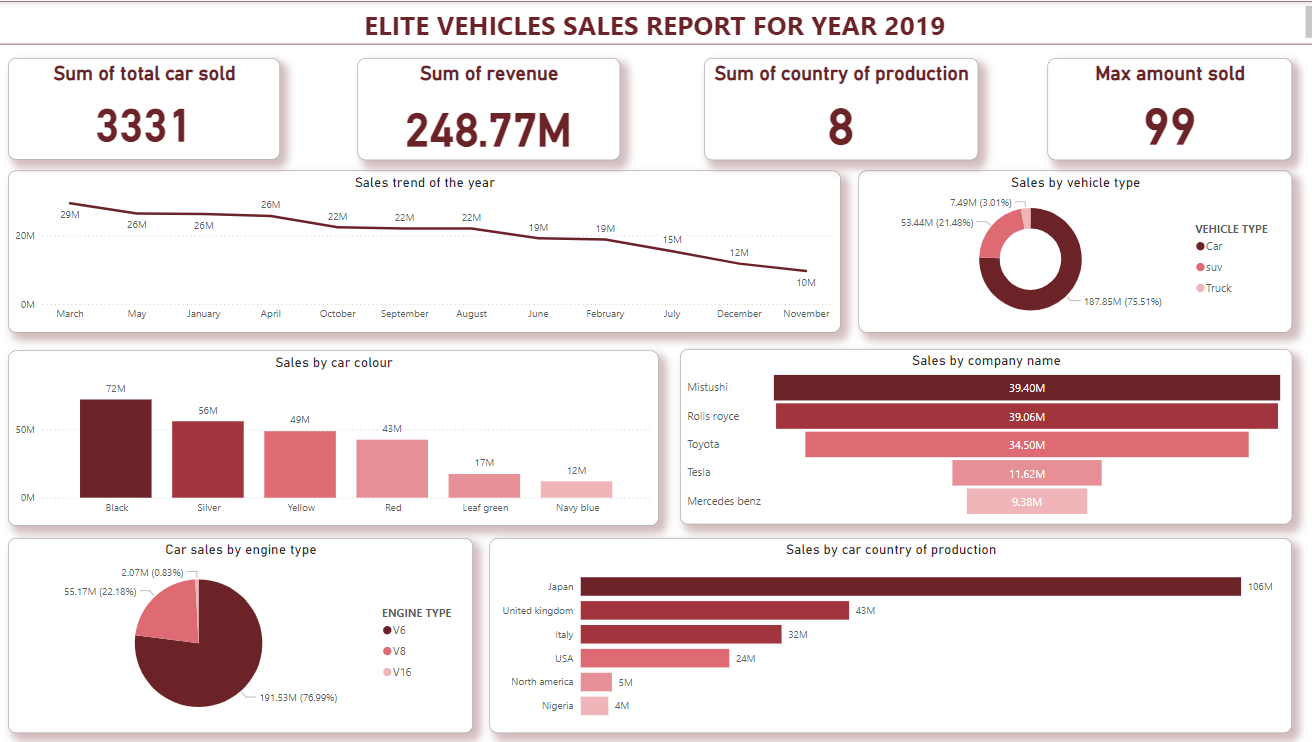

What the dashboard file says about the page in this screenshot:
{"tool":"powerbi","page":{"name":"Page 1","canvas":[1600,900],"ordinal":0},"visuals":[{"type":"columnChart","title":"Sales by car colour","fields":{"Category":["CAR SALES.COLOUR"],"Y":["Sum(CAR SALES.TOTAL REVENUE)"]},"box":[10.9,423.9,789.6,212.9],"z":0},{"type":"clusteredBarChart","title":"Sales by car country of production","fields":{"Category":["CAR SALES.COUNTRY OF PRODUCTION"],"Y":["Sum(CAR SALES.TOTAL REVENUE)"]},"box":[595,651.4,973.4,223.8],"z":1000},{"type":"pieChart","title":"Car sales by engine type","fields":{"Category":["CAR SALES.ENGINE TYPE"],"Y":["Sum(CAR SALES.TOTAL REVENUE)"]},"box":[23.7,651.4,527.6,223.8],"z":2000},{"type":"funnel","title":"Sales by company name","fields":{"Category":["CAR SALES.COMPANY NAME"],"Y":["Sum(CAR SALES.TOTAL REVENUE)"]},"box":[826,422.1,742.3,212.9],"z":3000},{"type":"donutChart","title":"Sales by vehicle type","fields":{"Category":["CAR SALES.VEHICLE TYPE "],"Y":["Sum(CAR SALES.TOTAL REVENUE)"]},"box":[1042.5,205.6,525.8,196.5],"z":4000},{"type":"lineChart","title":"Sales trend of the year","fields":{"Y":["Sum(CAR SALES.TOTAL REVENUE)"],"Category":["CAR SALES.MONTH SOLD"]},"box":[10.9,205.6,1009.8,196.5],"z":5000},{"type":"textbox","box":[0,0,1599.3,52.8],"z":6000},{"type":"card","title":"Sum of total car sold","fields":{"Values":["Sum(CAR SALES.AMOUNT SOLD)"]},"box":[10.1,68.8,329.9,123.5],"z":7000},{"type":"cardVisual","title":"Sum of revenue","fields":{"Data":["Sum(CAR SALES.TOTAL REVENUE)"]},"box":[434.8,69.1,318.4,123.7],"z":8000},{"type":"card","title":"Max amount sold","fields":{"Values":["Max(CAR SALES.AMOUNT SOLD)"]},"box":[1271.8,69.1,296.6,123.7],"z":10000},{"type":"card","title":"Sum of country of production","fields":{"Values":["Count(CAR SALES.COUNTRY OF PRODUCTION)"]},"box":[855.1,69.1,333,123.7],"z":10001}]}

Visuals, with their boxes in screenshot pixels (x1, y1, x2, y2), scaled from the page's 1600x900 canvas onto the 1312x742 screenshot:
"Sales by car colour" columnChart: detection(9, 349, 656, 525)
"Sales by car country of production" clusteredBarChart: detection(488, 537, 1286, 722)
"Car sales by engine type" pieChart: detection(19, 537, 452, 722)
"Sales by company name" funnel: detection(677, 348, 1286, 524)
"Sales by vehicle type" donutChart: detection(855, 170, 1286, 332)
"Sales trend of the year" lineChart: detection(9, 170, 837, 332)
textbox: detection(0, 0, 1311, 44)
"Sum of total car sold" card: detection(8, 57, 279, 159)
"Sum of revenue" cardVisual: detection(357, 57, 618, 159)
"Max amount sold" card: detection(1043, 57, 1286, 159)
"Sum of country of production" card: detection(701, 57, 974, 159)
